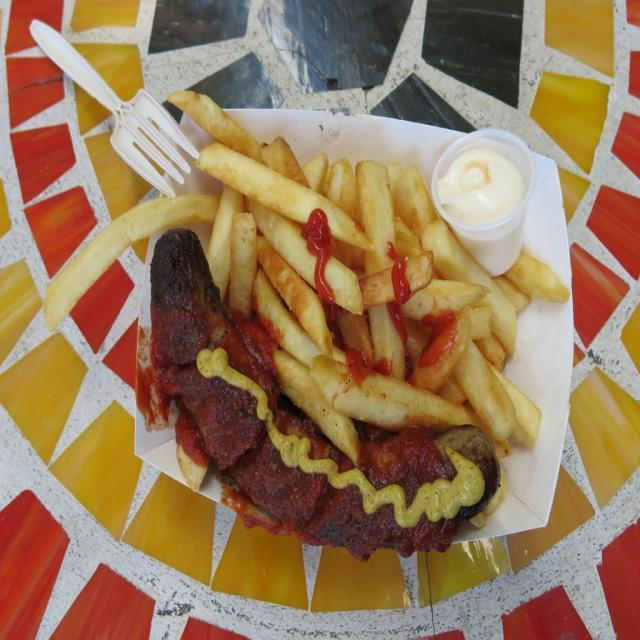French fries: (22, 90, 574, 445)
